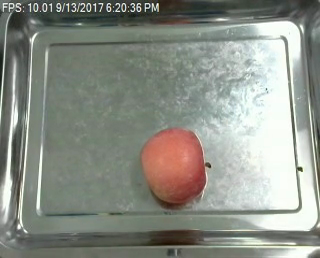Apple: (137, 127, 210, 207)
